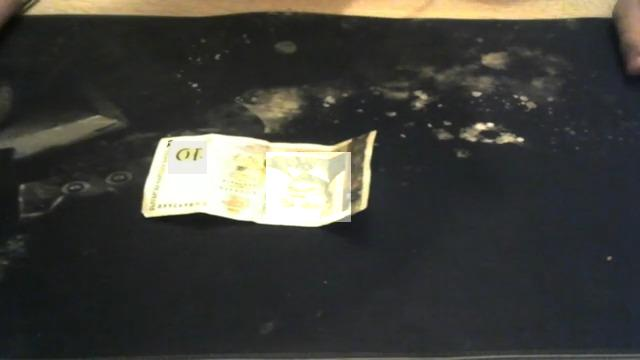10leva: (267, 153, 351, 222), (169, 142, 207, 174)
